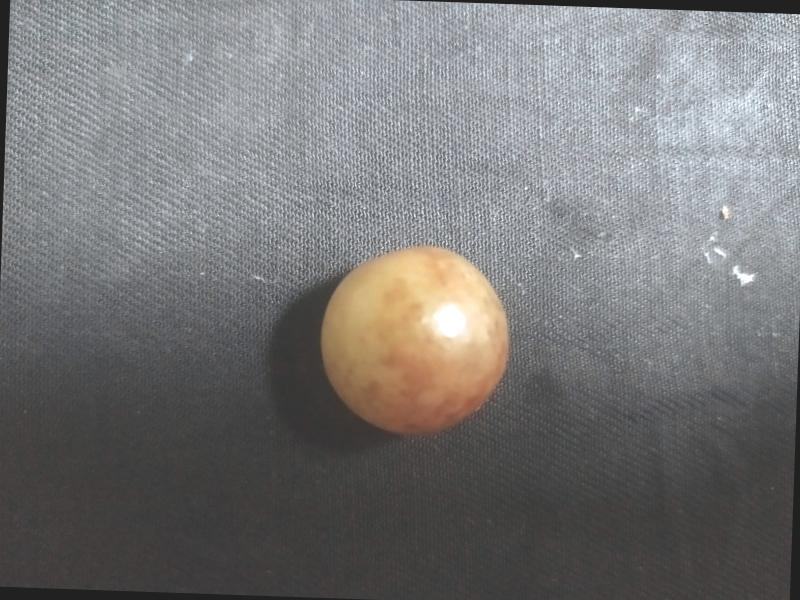Grape Rotten: (312, 240, 514, 442)
